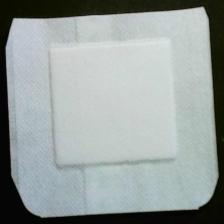Cut: (5, 7, 221, 220)
